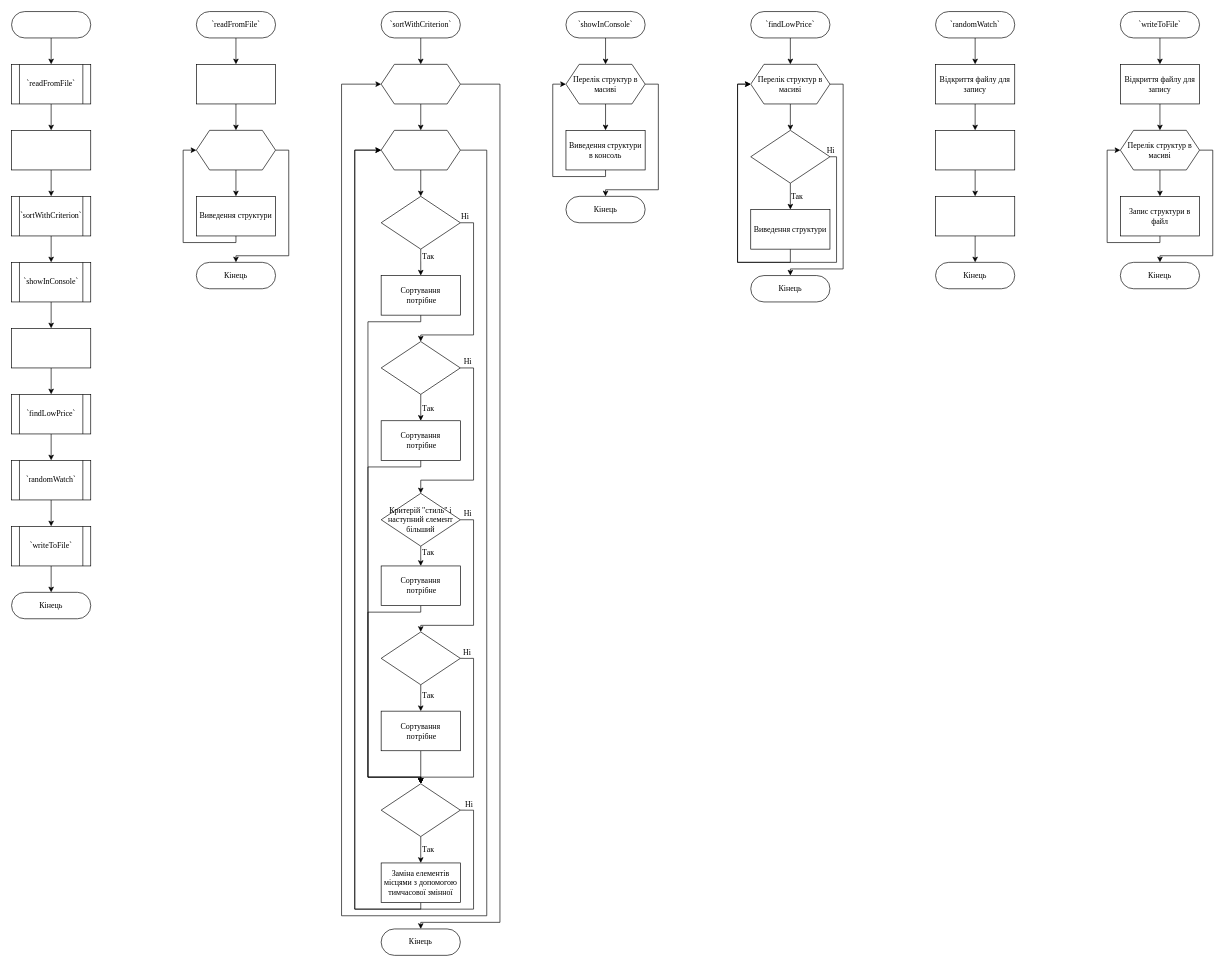
Some shapes in this 1230 by 967 pixel diagram are drawn without their labels. Each missing label, with the box of its shape:
0 < i < кількості структур: (380, 64, 460, 104)
0 < i < кількості структур - 1: (380, 130, 460, 170)
Відкриття файлу для читання: (196, 64, 276, 104)
Генерування випадкової структури: (935, 130, 1015, 170)
Запис сгенерованої структури в файл: (935, 196, 1015, 236)
Критерій "виробник" і наступний єлемент більший: (380, 631, 460, 685)
Критерій "вологостійкість" і наступний єлемент більший: (380, 341, 460, 394)
Критерій "ціна" і наступний єлемент більший: (380, 196, 460, 249)
Отримання критерію від користувача: (11, 130, 91, 170)
Отримання максимальної ціни: (11, 328, 91, 368)
Перерахування всіх структур в масиві: (196, 130, 276, 170)
Початок: (11, 11, 91, 38)
Сортування потрібне?: (380, 783, 460, 837)
Ціна структури більша за максимальну?: (750, 130, 830, 183)
